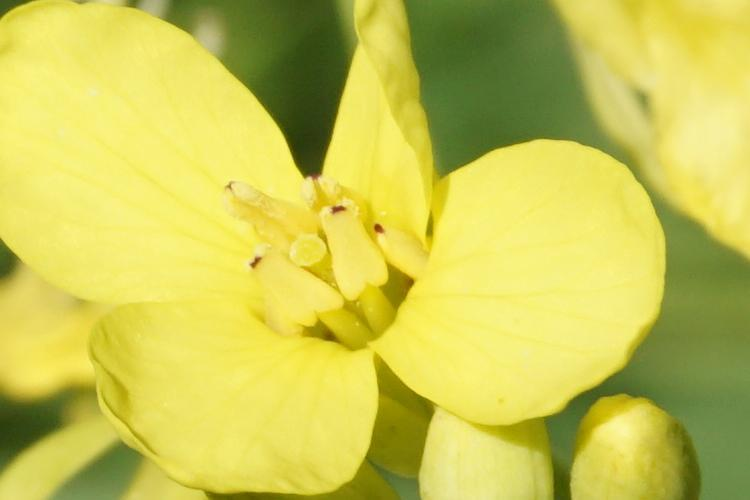bud: (578, 400, 699, 498)
yellow: (5, 6, 686, 446)
